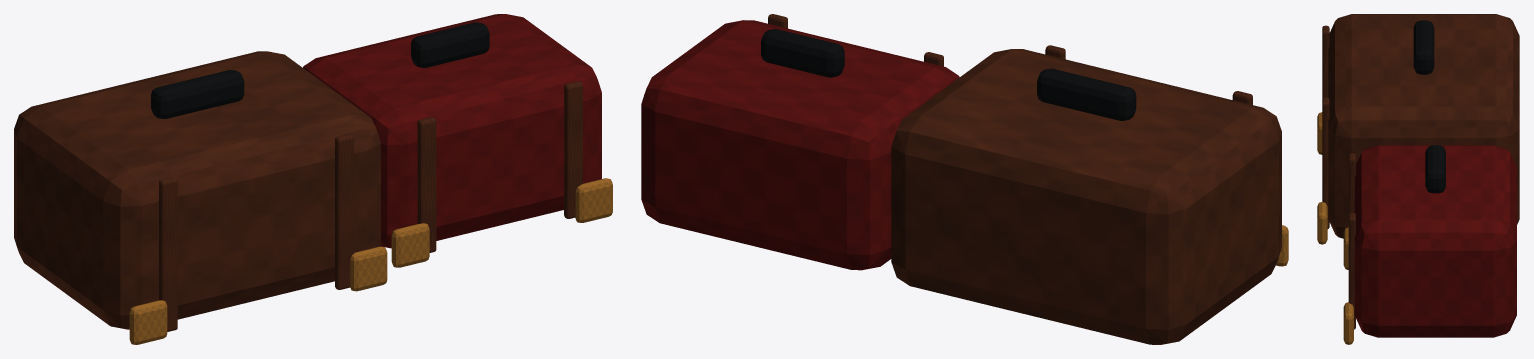
The model's file is fallen-luggage-v1-tGAwk2aq.glb.
The picture shows the model from 3 angles, left to right: view 1: azimuth 30°, elevation 25°; view 2: azimuth 150°, elevation 25°; view 3: azimuth 270°, elevation 25°; orthographic projection. The views are drawn at different scales.
Visible parts, largest first — view 1: Suitcase shell, Suitcase shell.001, Case corner guard, Suitcase handle; view 2: Suitcase shell, Suitcase shell.001, Suitcase handle; view 3: Suitcase shell.001, Suitcase shell, Suitcase handle, Case corner guard.
Part boxes in pixels (box(x1,y1,x2,y2)): Suitcase shell: box(14, 51, 582, 331); Suitcase shell.001: box(303, 14, 601, 248); Case corner guard: box(129, 178, 612, 344); Suitcase handle: box(151, 22, 489, 118); Suitcase shell: box(768, 14, 1281, 344); Suitcase shell.001: box(641, 20, 959, 270); Suitcase handle: box(761, 29, 1136, 120); Suitcase shell.001: box(1354, 145, 1516, 337); Suitcase shell: box(1322, 14, 1519, 329); Suitcase handle: box(1413, 20, 1445, 193); Case corner guard: box(1317, 112, 1353, 344).
Size of the model in its own units: 1.67 by 0.6022 by 0.6875.
Materials: 4 (4 with a texture image).
